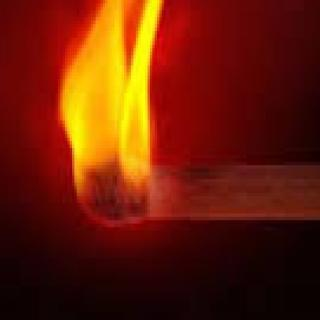fire: (52, 0, 175, 233)
